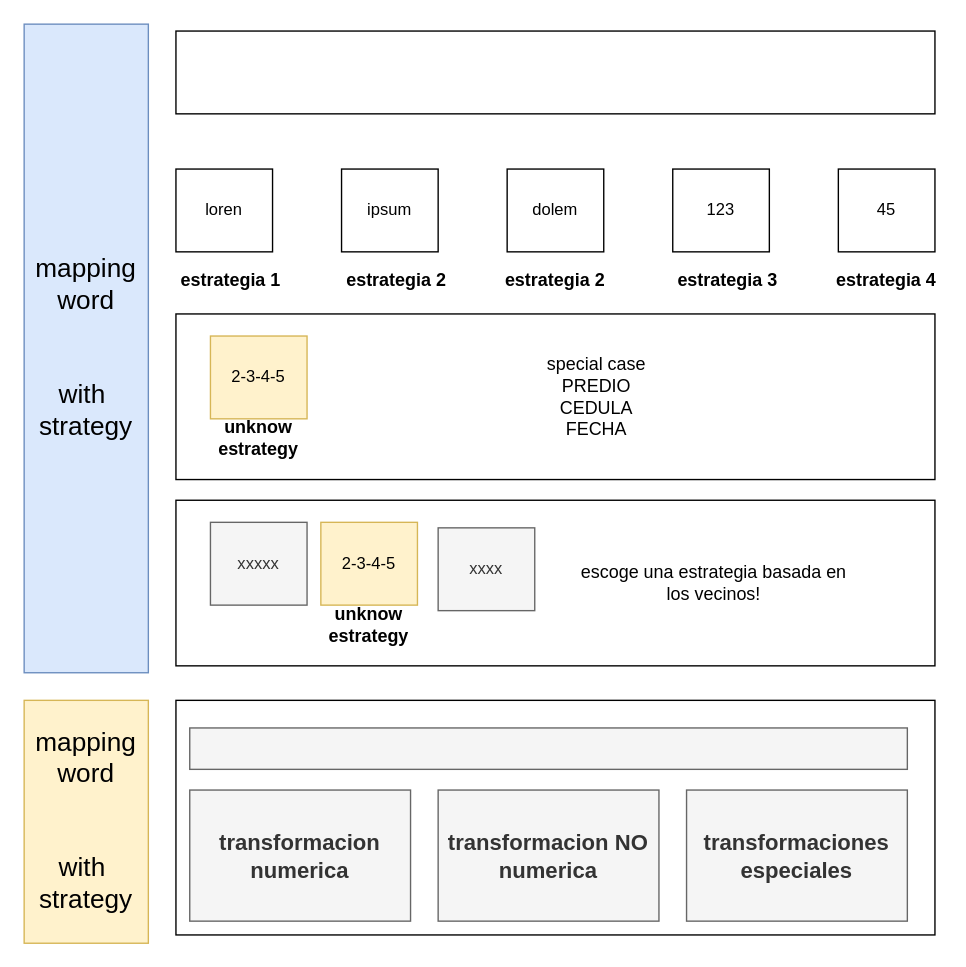
Image size: 966x967. Some labels were removed from this diagram. The shapes that lost their labels are listed below. From the top down, each one's centre as x and y in pixels, then its label:
the point at 555,72: sentences (loren ipsum dolem 123 45 2)
the point at 547,748: palabra analizada y con estrategia
